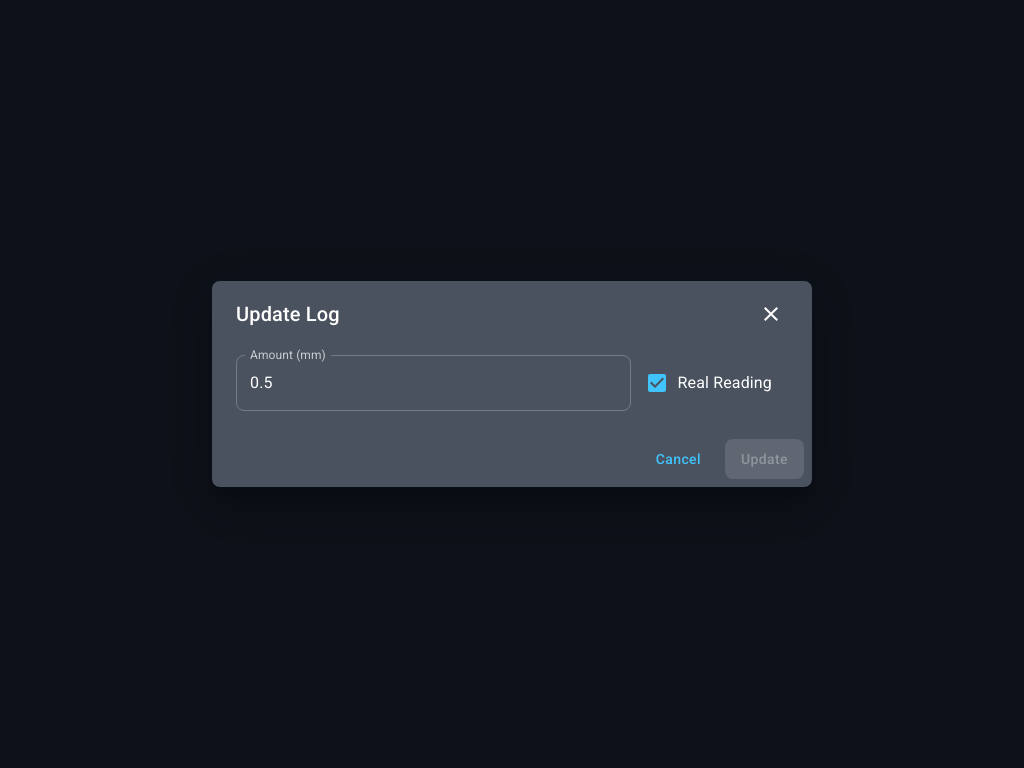
Test: UpdateLogModal › Update Button State › update button is enabled after toggling realReading
This screenshot has width=1024, height=768.
Click the checkbox labelled "Real Reading" at (708, 383), box [644,371,772,395]
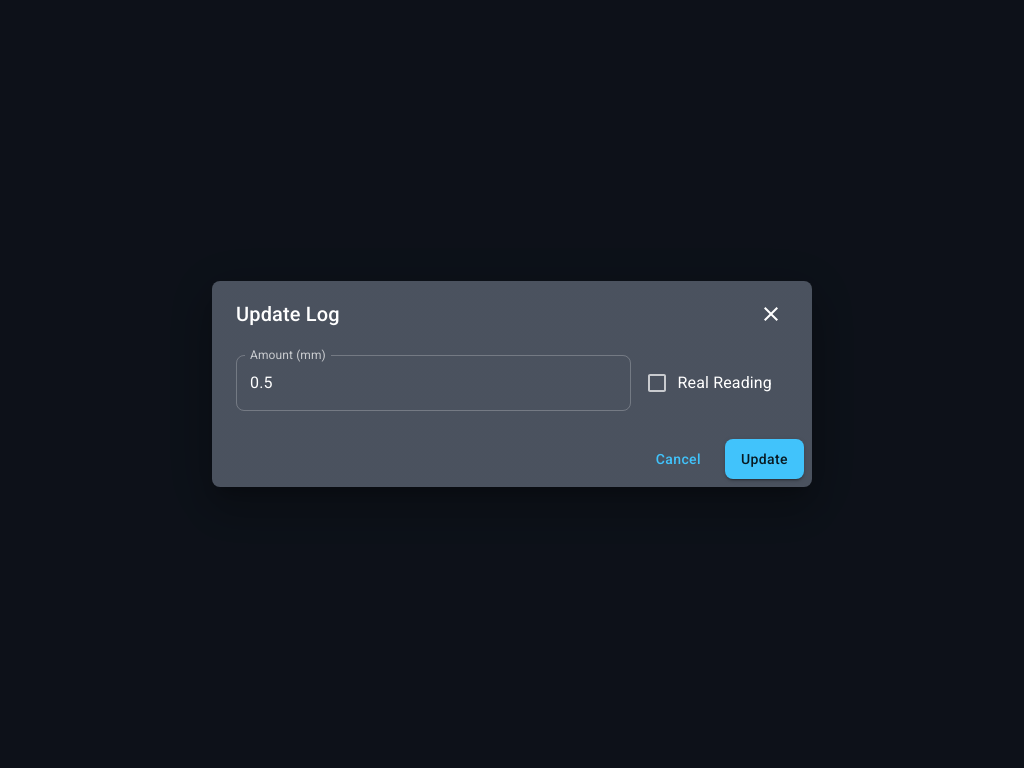
expect the button "Update" is enabled: met, box [725,439,804,479]
